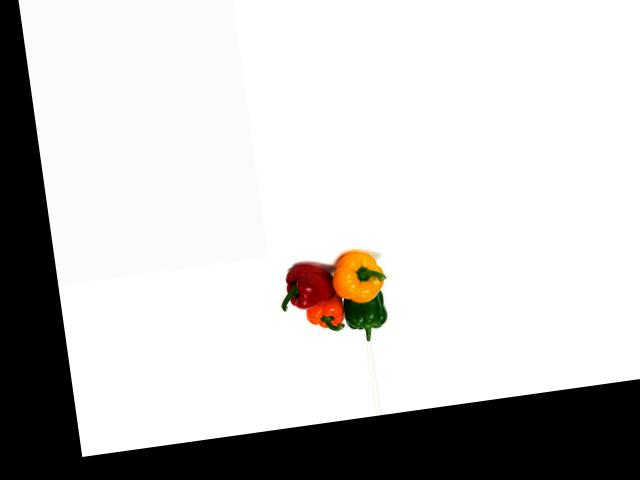bell_pepper: (326, 245, 392, 306)
